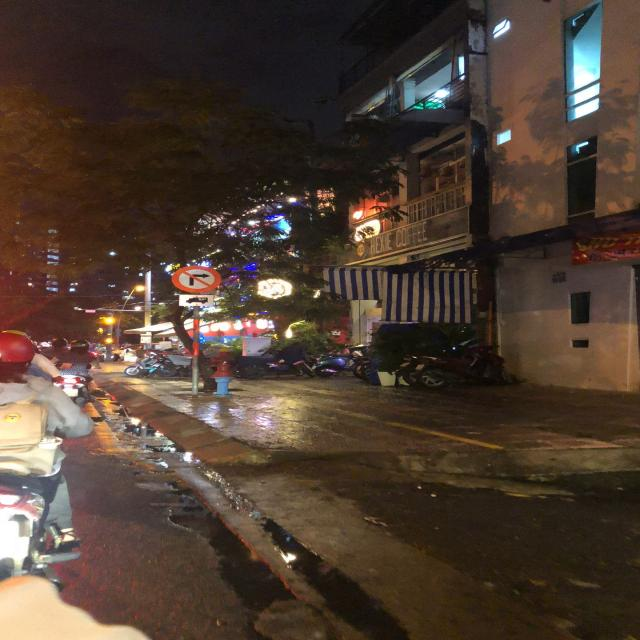Bien bao cam re phai: (170, 262, 220, 294)
